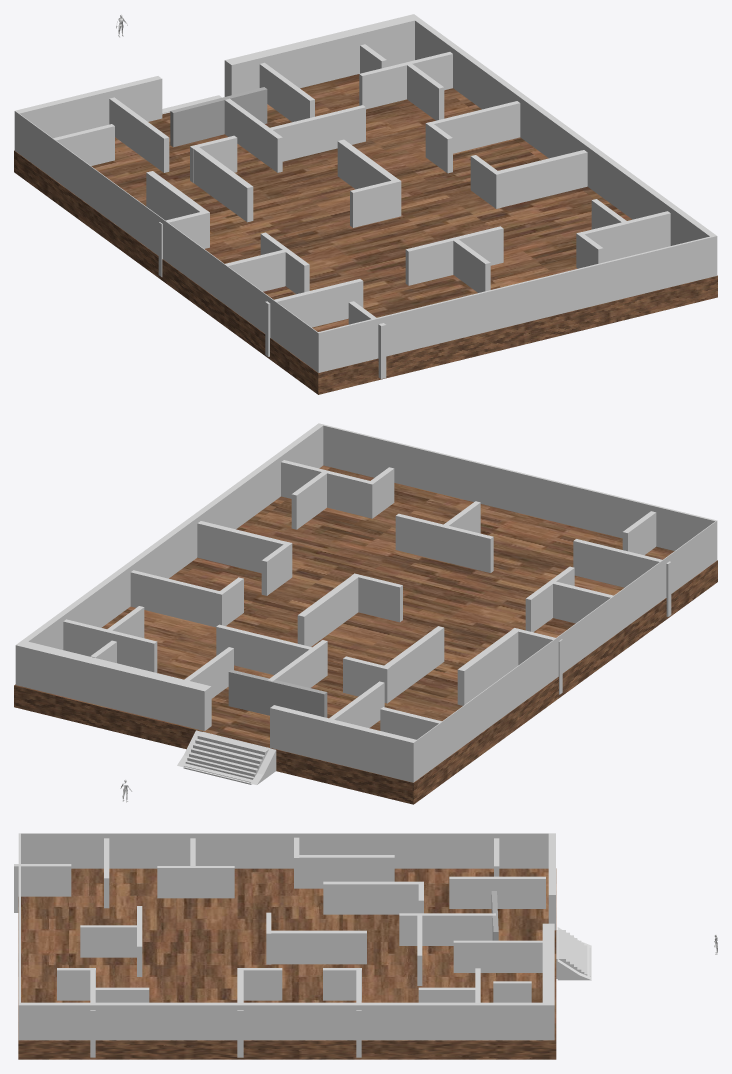
Rendered from maze made by me.glb.
3 renders of one model, top to bottom at view 1: azimuth 30°, elevation 25°; view 2: azimuth 150°, elevation 25°; view 3: azimuth 270°, elevation 25°, orthographic. The views are drawn at different scales.
Visible parts, largest first — view 1: -col.001, -col.024, -col.012, -col.011, -col.013, -col.019, -col.014, -col.006, -col.023, -col, -col.015, -col.021 (+11 smaller); view 2: -col.001, -col.024, -col.011, -col.013, -col.012, -col.023, -col.014, -col.019, -col.015, -col, -col.021, Cube (+13 smaller); view 3: -col.001, -col.024, -col.013, -col.014, -col.007, -col.015, -col.002, -col.005, -col.016, -col.020, -col.022, -col.012 (+10 smaller).
Boxes of the visible parts, x1,y1,x2,y2 form: -col.001: (14, 74, 717, 394); -col.024: (14, 14, 717, 372); -col.012: (470, 150, 587, 208); -col.011: (425, 101, 520, 173); -col.013: (337, 139, 401, 227); -col.019: (576, 211, 670, 268); -col.014: (190, 135, 253, 222); -col.006: (268, 105, 365, 161); -col.023: (405, 226, 503, 285); -col: (170, 87, 267, 147); -col.015: (146, 171, 209, 276); -col.021: (265, 279, 363, 356); -col.001: (14, 465, 717, 804); -col.024: (15, 423, 717, 782); -col.011: (130, 570, 243, 627); -col.013: (297, 573, 402, 646); -col.012: (197, 521, 292, 595); -col.023: (395, 513, 493, 572); -col.014: (343, 626, 444, 703); -col.019: (281, 460, 394, 518); -col.015: (457, 628, 562, 705); -col: (228, 669, 327, 717); -col.021: (573, 539, 671, 616); Cube: (183, 732, 269, 784); -col.001: (18, 868, 556, 1059); -col.024: (18, 833, 555, 1040); -col.013: (266, 912, 366, 964); -col.014: (323, 881, 423, 914); -col.007: (449, 876, 545, 908); -col.015: (294, 837, 394, 888); -col.002: (453, 940, 542, 972); -col.005: (399, 913, 495, 945); -col.016: (157, 866, 234, 898); -col.020: (14, 864, 71, 912); -col.022: (80, 925, 137, 957); -col.012: (237, 968, 282, 1057).
Bounding box in the file's own units: 37.3 × 5.53 × 63.98.
Materials: 3 (1 with a texture image).
